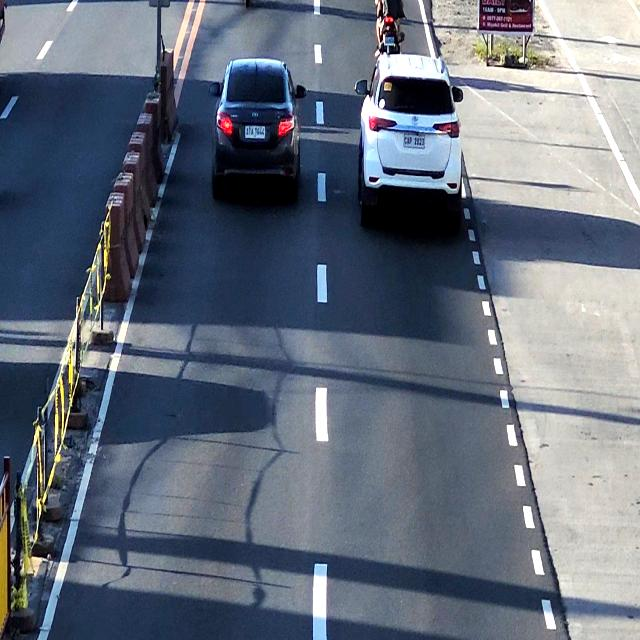Car: (359, 53, 462, 232), (212, 63, 298, 194)
License-Plate: (402, 133, 426, 151), (244, 124, 265, 142), (384, 37, 396, 48)
Motorcycle: (372, 0, 408, 51)
